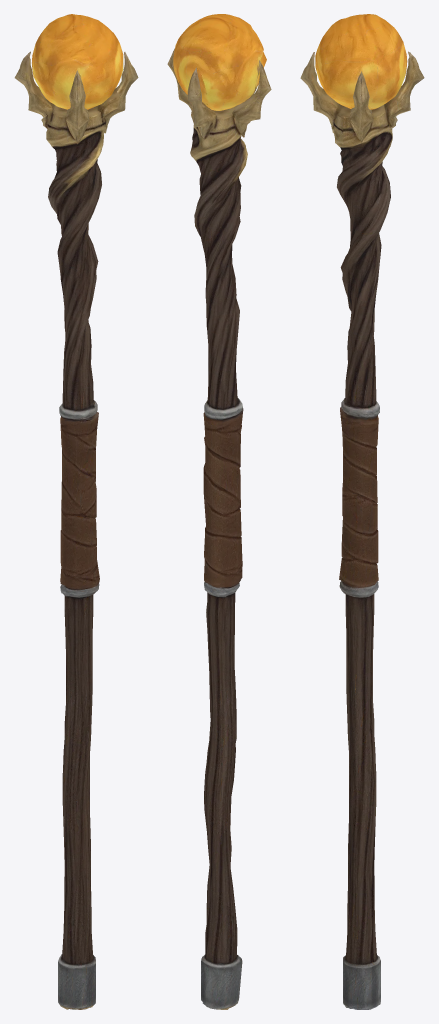
The model's file is weapon_staff.glb.
3 renders of one model, left to right at view 1: azimuth 90°, elevation 25°; view 2: azimuth 150°, elevation 25°; view 3: azimuth 270°, elevation 25°, orthographic.
Bounding box in the file's own units: 0.1049 × 0.9507 × 0.1084.
Materials: 1 (1 with a texture image).
